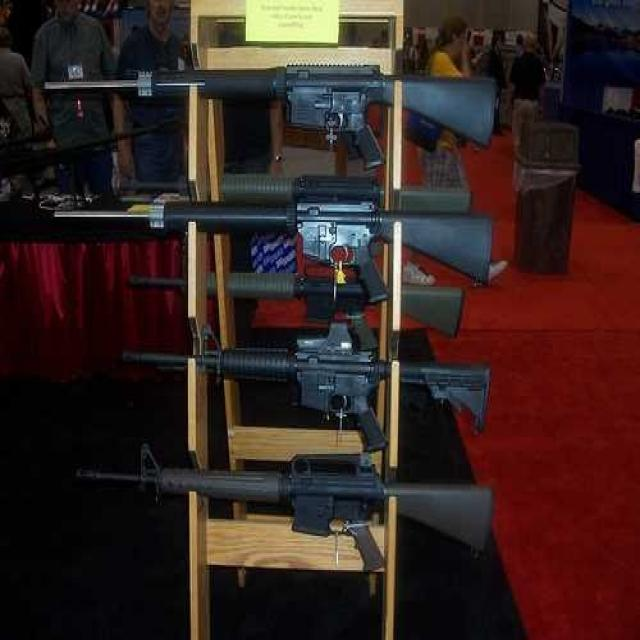heavyweapon: (33, 45, 530, 172), (51, 173, 508, 300), (62, 436, 529, 554), (121, 332, 508, 440)
